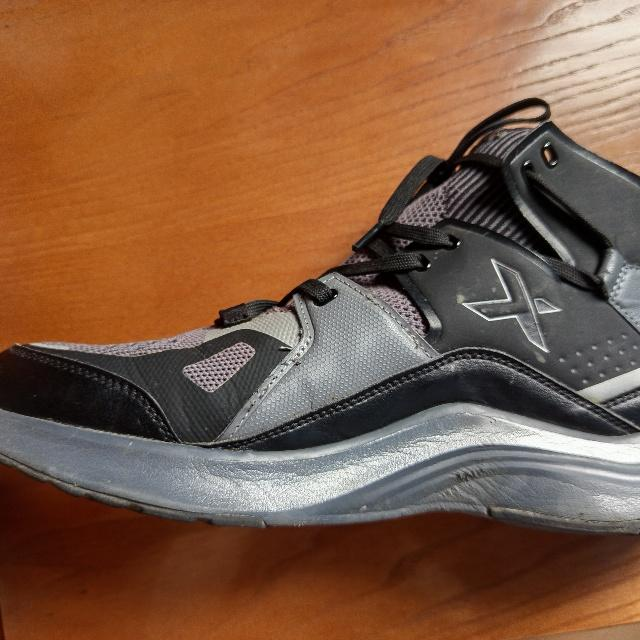broken-error: (245, 390, 269, 410), (364, 293, 380, 306)
